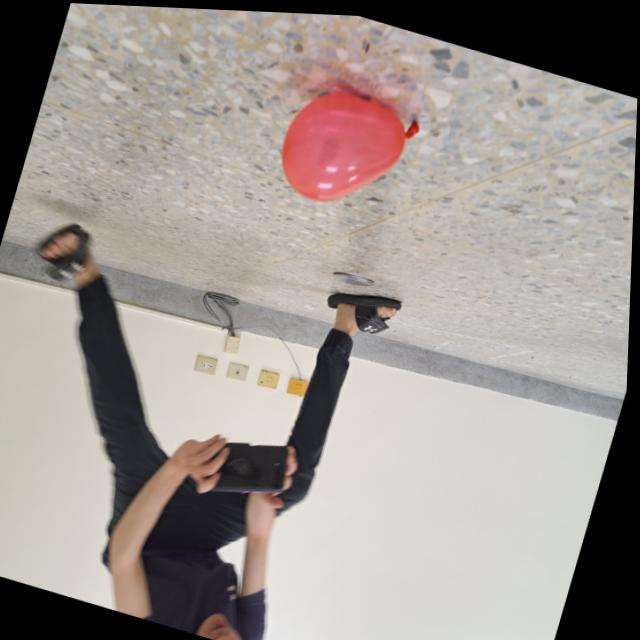red: (268, 74, 426, 223)
